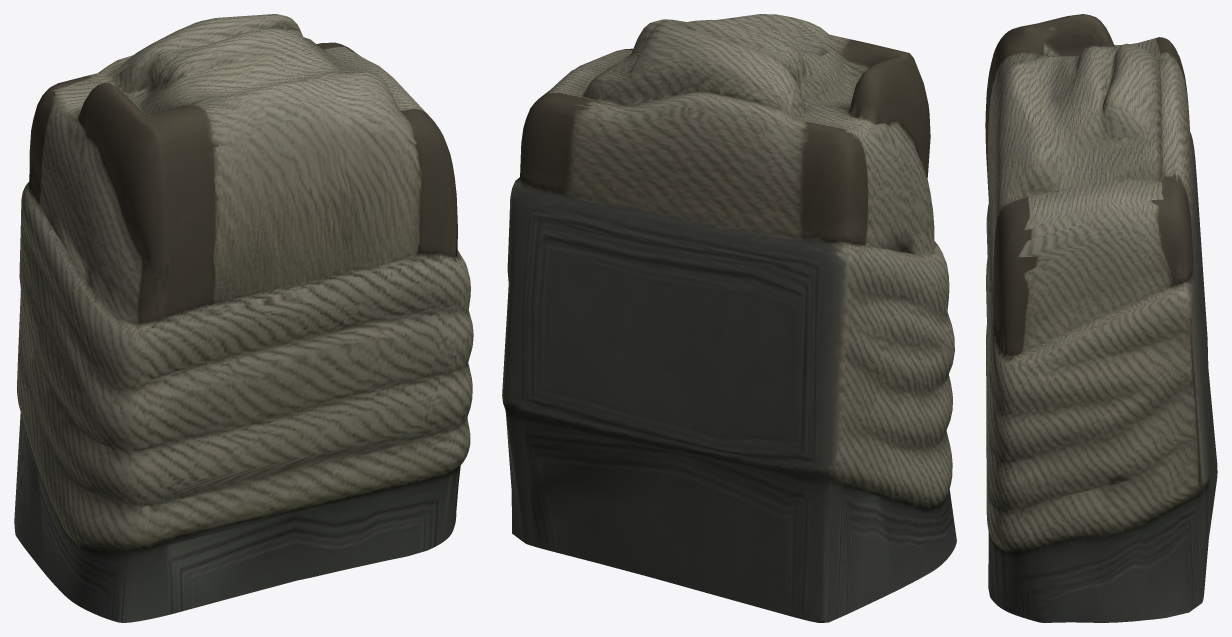
Rendered from WrappedCore-Mated-LOD0.glb.
The picture shows the model from 3 angles, left to right: view 1: azimuth 30°, elevation 25°; view 2: azimuth 150°, elevation 25°; view 3: azimuth 270°, elevation 25°; orthographic projection. The views are drawn at different scales.
Visible parts, largest first — view 1: WrappedCore_Joined_LOD0; view 2: WrappedCore_Joined_LOD0; view 3: WrappedCore_Joined_LOD0.
Boxes of the visible parts, left/top/right/bottom form: WrappedCore_Joined_LOD0: left=14, top=14, right=473, bottom=622; WrappedCore_Joined_LOD0: left=502, top=14, right=956, bottom=622; WrappedCore_Joined_LOD0: left=985, top=14, right=1217, bottom=622.
Size of the model in its own units: 0.0141 by 0.018 by 0.008.
1 material, 1 textured.
